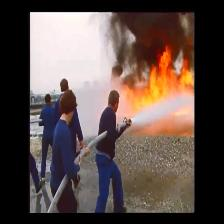fire: (121, 57, 198, 101)
smoke: (110, 11, 196, 56)
